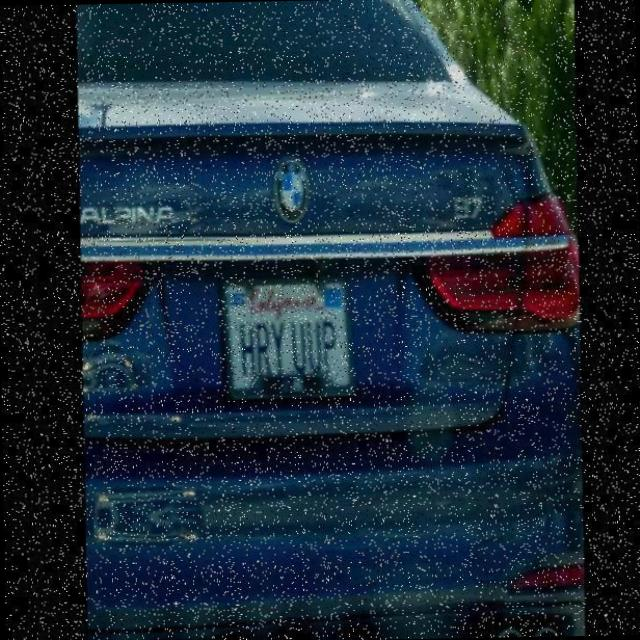LicensePlate: (226, 280, 354, 398)
